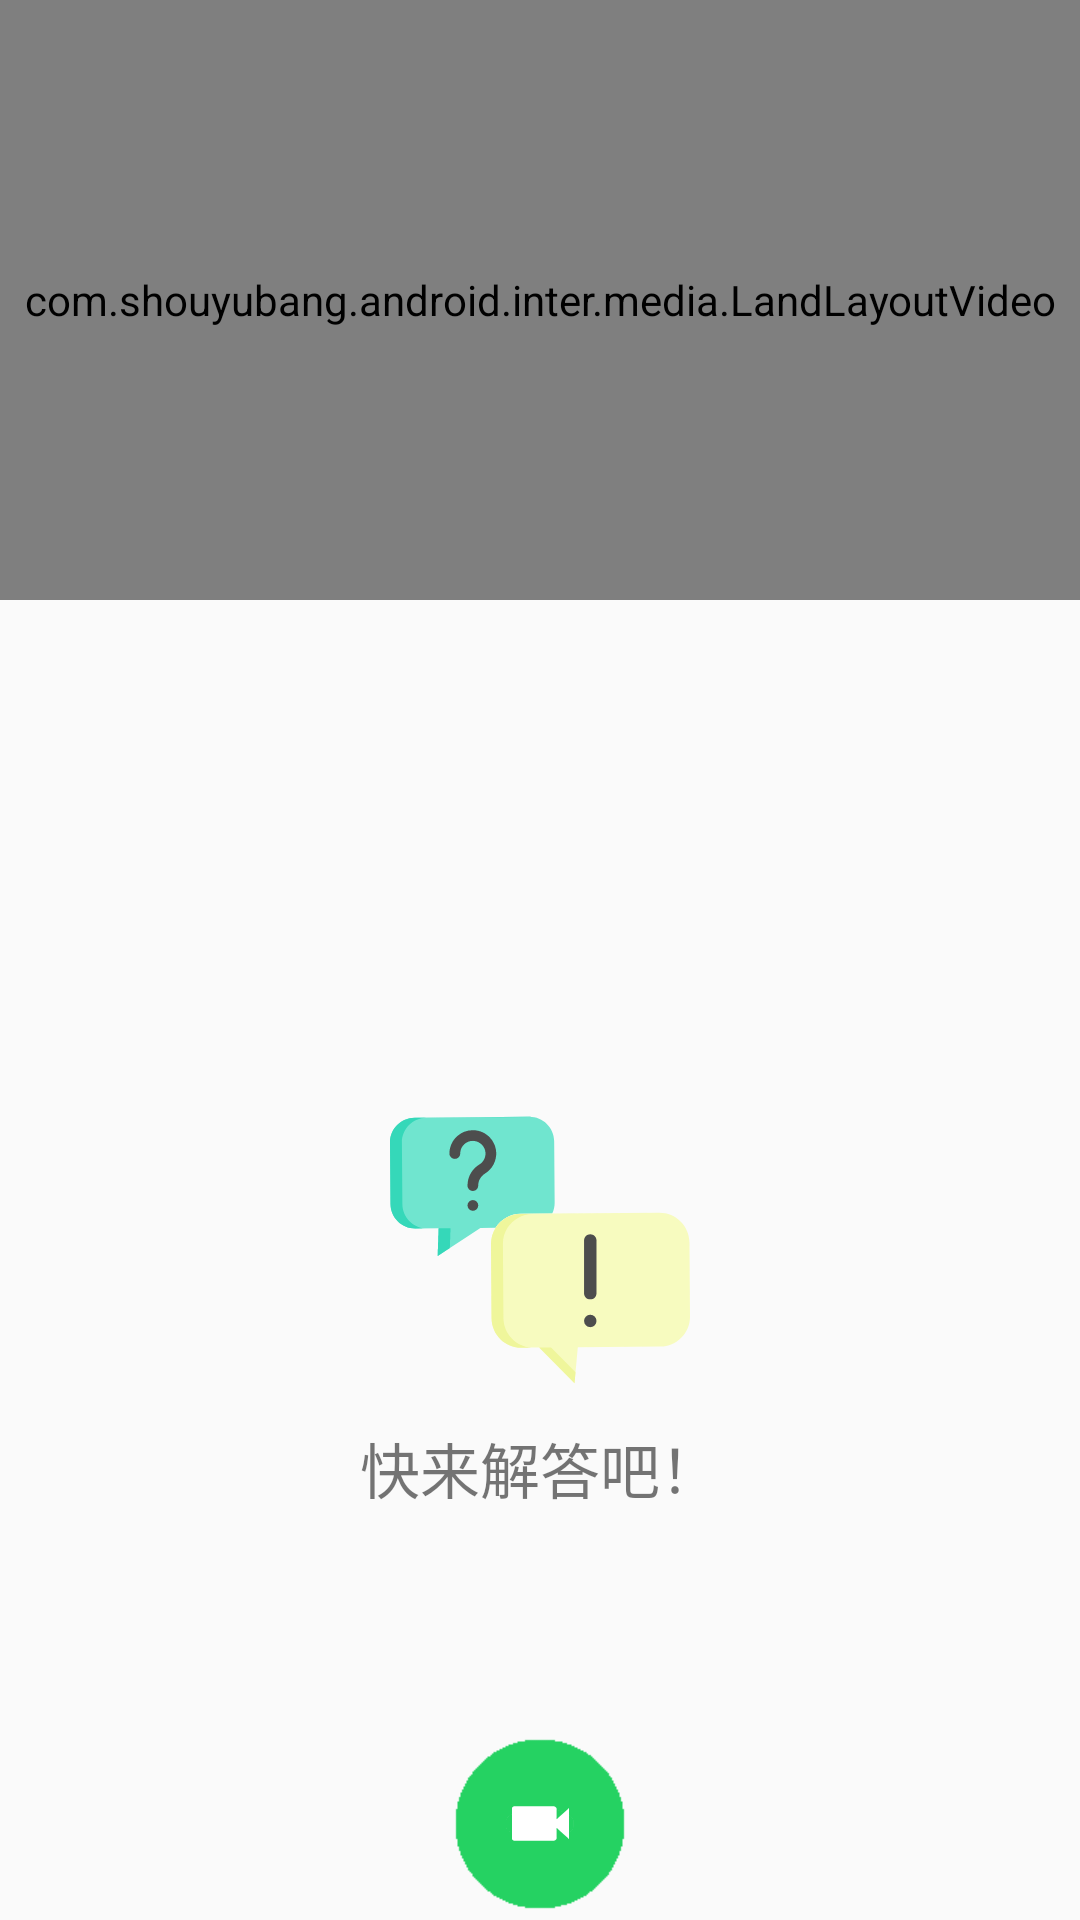

Icons on this 1080x1920 Android screen, each with its box as (x1, y1, x2, y2):
question: (390, 1116, 690, 1383)
record video: (455, 1739, 625, 1909)
